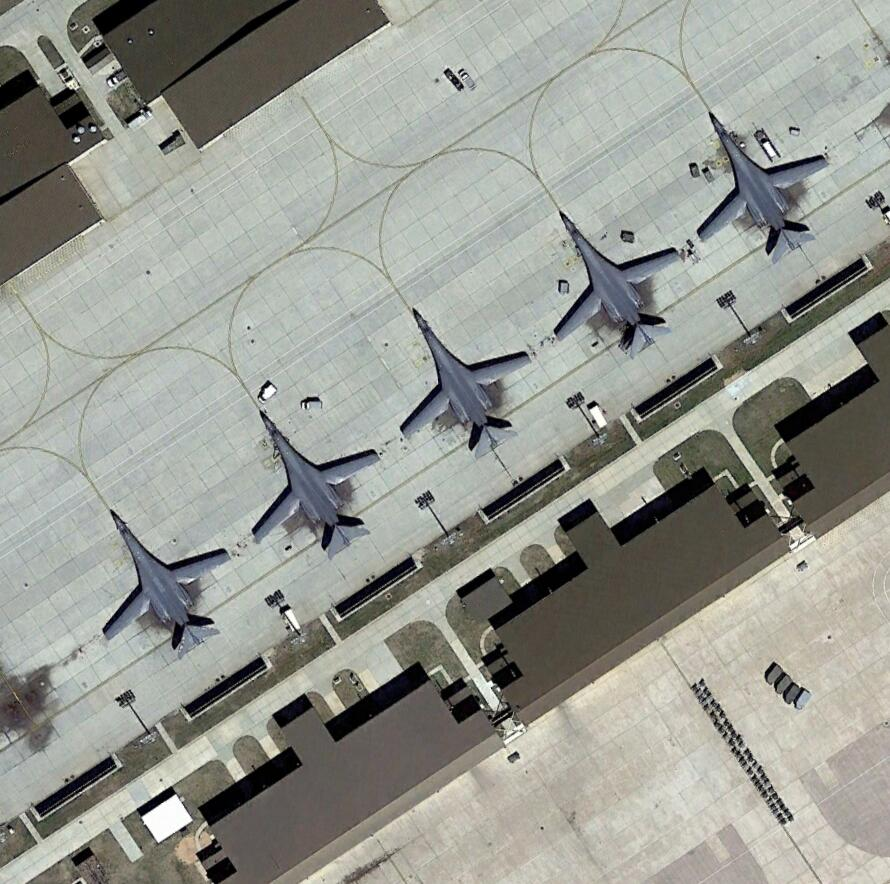A10: (694, 111, 832, 268), (400, 301, 534, 459), (547, 205, 685, 356), (251, 408, 387, 560), (100, 508, 234, 661)
